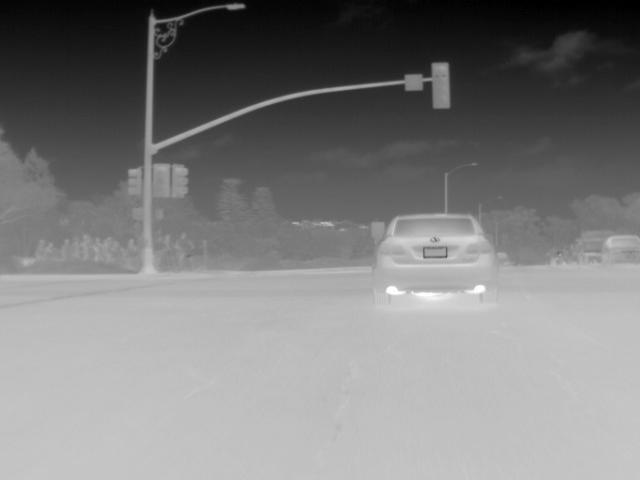car: (374, 209, 509, 303), (574, 228, 621, 263), (602, 233, 640, 268), (495, 250, 513, 267)
person: (175, 231, 195, 268), (79, 234, 95, 260), (160, 230, 175, 255), (58, 237, 75, 258), (34, 238, 50, 260), (122, 236, 141, 253), (91, 235, 103, 261), (48, 239, 60, 257)
